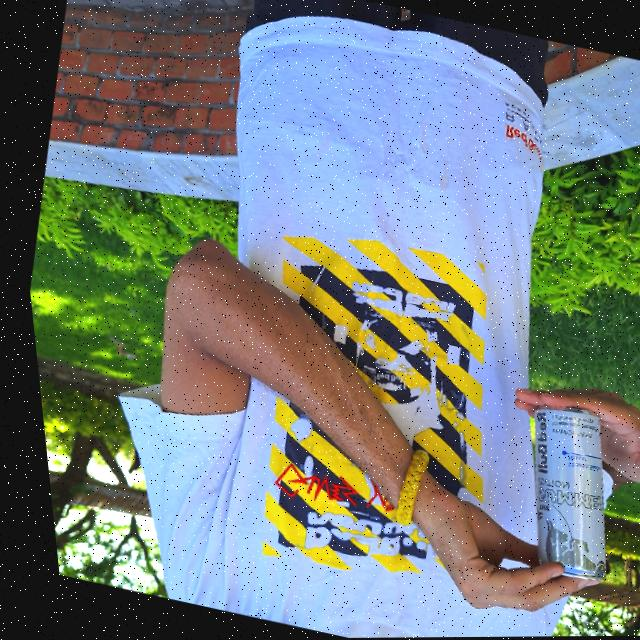Redbull Summer Edition: (491, 406, 628, 583)
